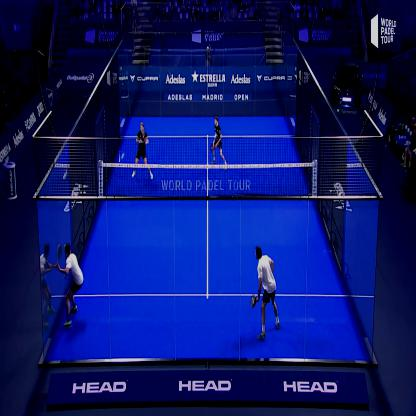ball: (119, 151, 126, 163)
